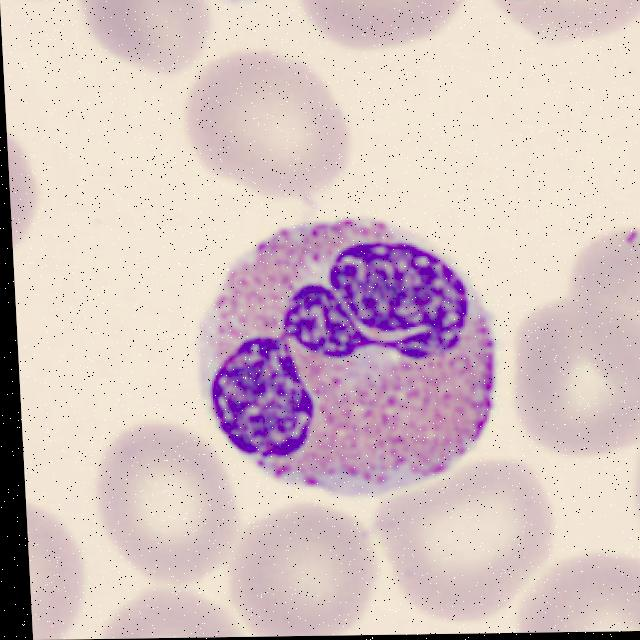eosinophil: (192, 213, 501, 495)
rbc: (371, 455, 566, 623), (184, 49, 364, 205), (85, 418, 245, 586), (227, 493, 383, 637), (512, 284, 640, 454), (560, 223, 640, 390), (64, 0, 213, 85), (476, 0, 640, 66), (81, 577, 253, 639), (513, 553, 640, 633), (26, 486, 88, 640), (294, 0, 471, 53), (5, 103, 56, 256), (635, 415, 640, 577)
